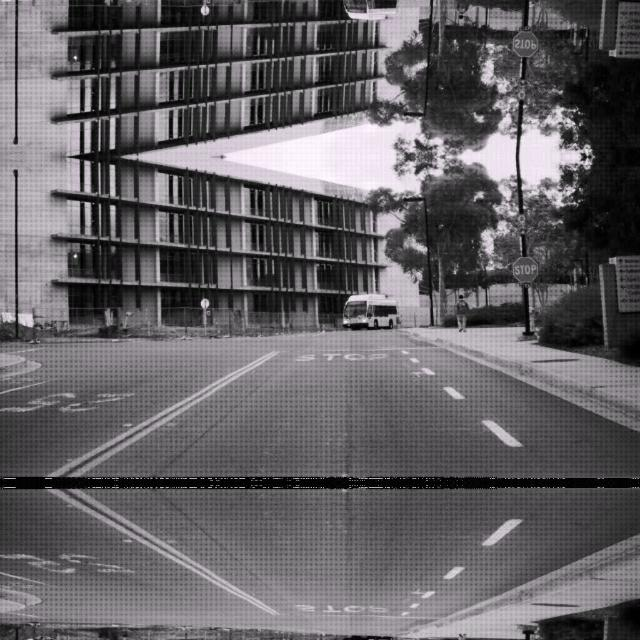stop: (512, 255, 538, 281), (512, 31, 538, 57)
